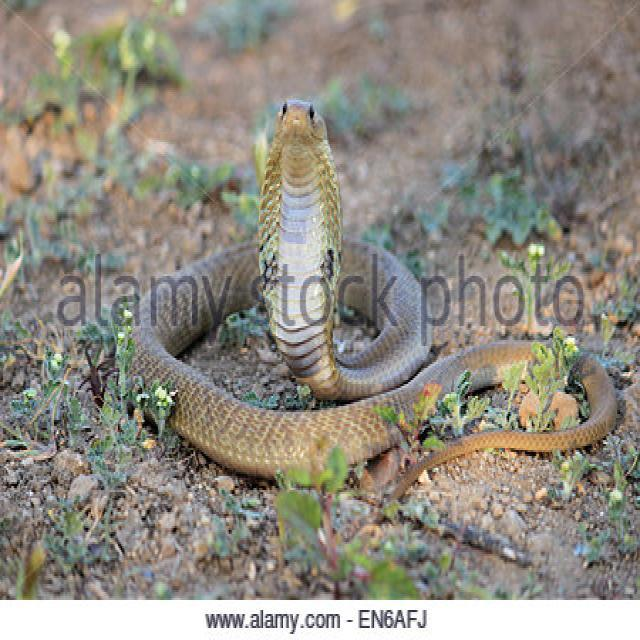Snake: (113, 96, 618, 502)
